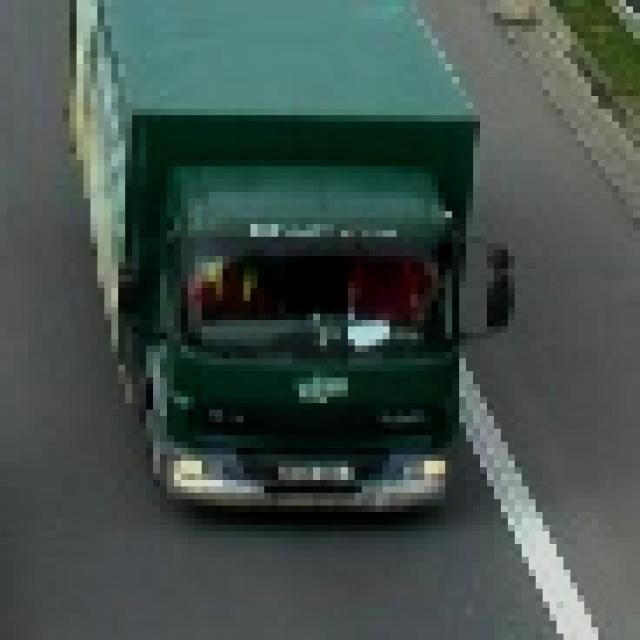truck: (57, 1, 516, 526)
